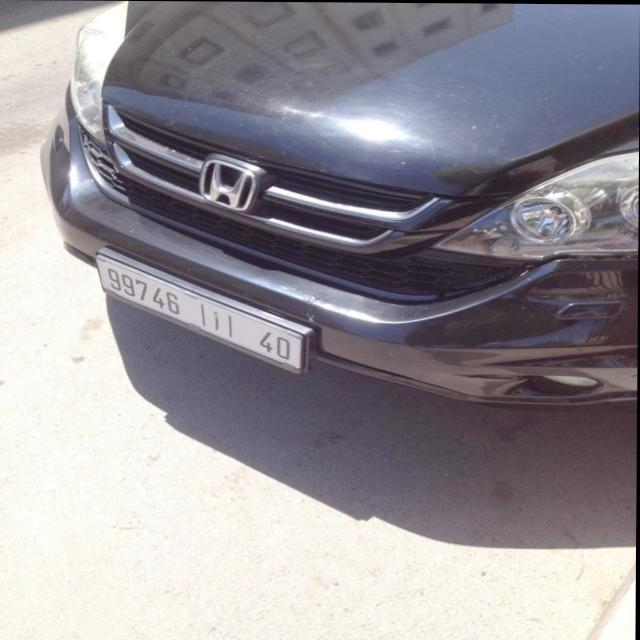License-Plate: (97, 248, 313, 372)
